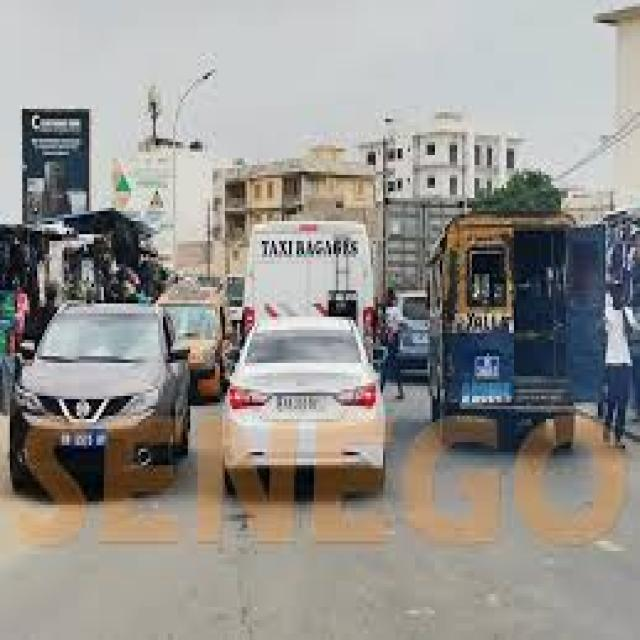car rapide: (431, 215, 601, 443)
fourgon: (246, 225, 375, 330)
particulier: (12, 305, 188, 503), (226, 321, 386, 487)
taxi: (158, 285, 222, 400)
